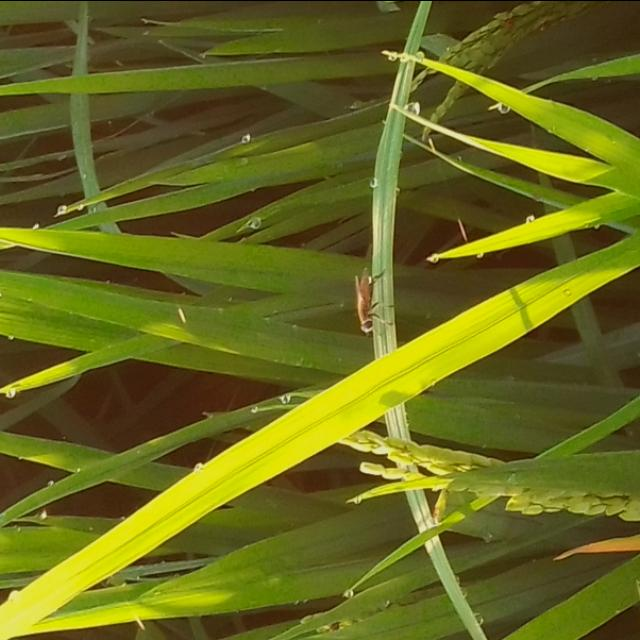Lalat: (353, 264, 398, 338)
